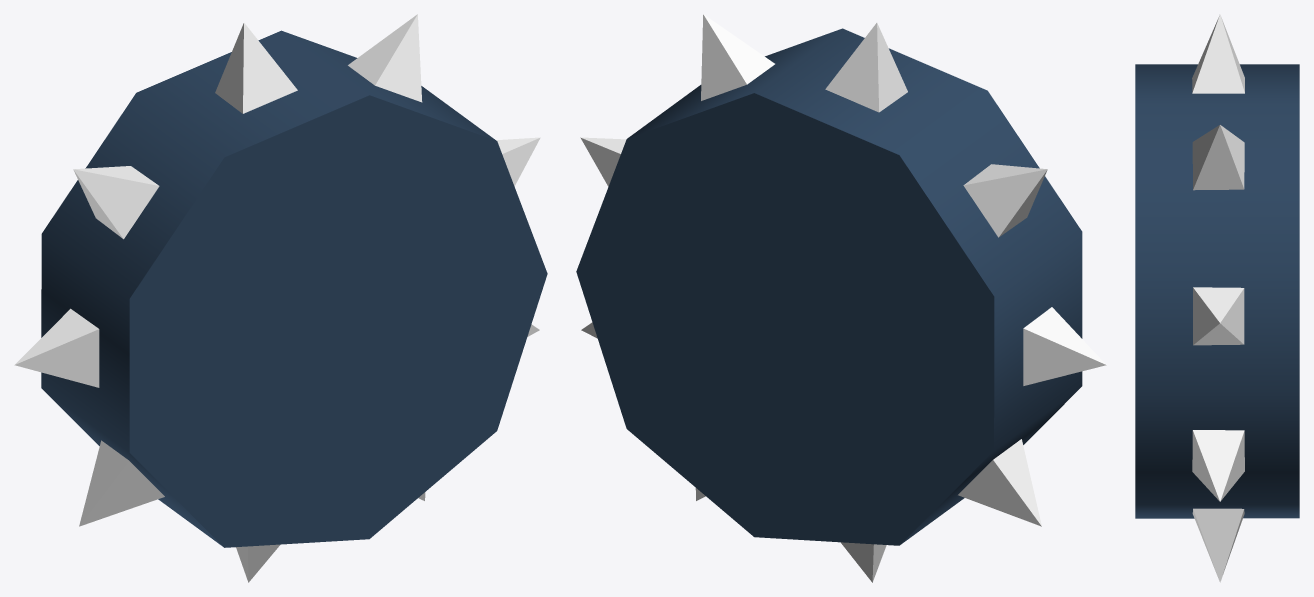
The model's file is dog_collar_verC.FBX.
The picture shows the model from 3 angles, left to right: view 1: azimuth 30°, elevation 25°; view 2: azimuth 150°, elevation 25°; view 3: azimuth 270°, elevation 25°; orthographic projection. The views are drawn at different scales.
Parts seen in each view (by area): view 1: Collar, collar_spike; view 2: Collar, collar_spike; view 3: Collar, collar_spike.
Boxes of the visible parts, bbox=[...] form: Collar: bbox=[41, 30, 547, 547]; collar_spike: bbox=[14, 14, 540, 582]; Collar: bbox=[576, 28, 1082, 545]; collar_spike: bbox=[580, 14, 1106, 582]; Collar: bbox=[1135, 64, 1299, 518]; collar_spike: bbox=[1192, 14, 1244, 582].
Size of the model in its own units: 55.36 by 56.45 by 16.1.
